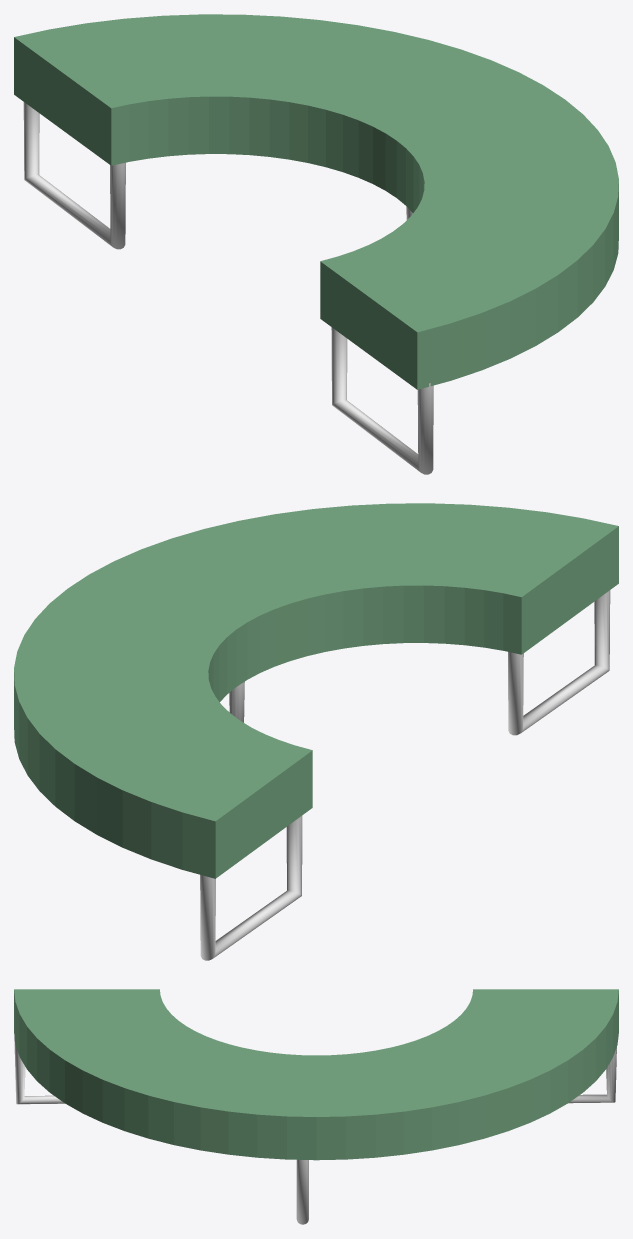
Rendered from chair_6.glb.
3 renders of one model, top to bottom at view 1: azimuth 30°, elevation 25°; view 2: azimuth 150°, elevation 25°; view 3: azimuth 270°, elevation 25°, orthographic. The views are drawn at different scales.
Parts seen in each view (by area): view 1: chair_circle_001.001; view 2: chair_circle_001.001; view 3: chair_circle_001.001.
Boxes of the visible parts, left/top/right/bottom form: chair_circle_001.001: left=14, top=14, right=618, bottom=474; chair_circle_001.001: left=14, top=503, right=618, bottom=960; chair_circle_001.001: left=14, top=989, right=618, bottom=1224.
Bounding box in the file's own units: 0.6124 × 0.245 × 1.22.
